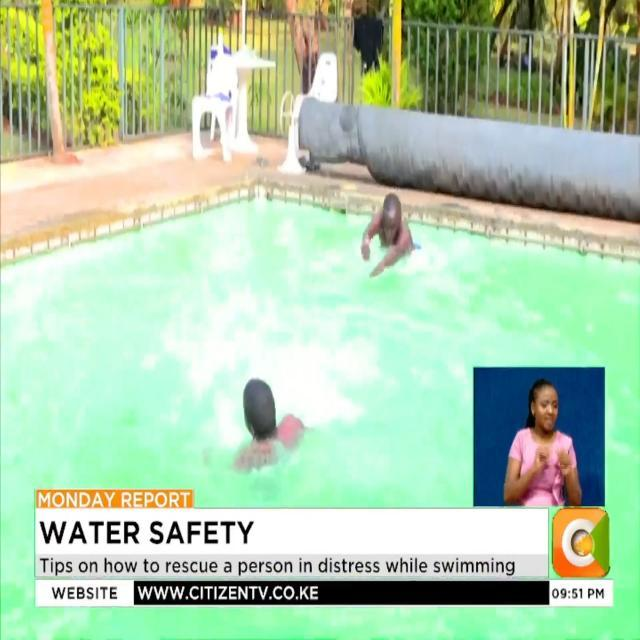drowning: (215, 358, 315, 487)
swimming: (350, 174, 424, 293)
